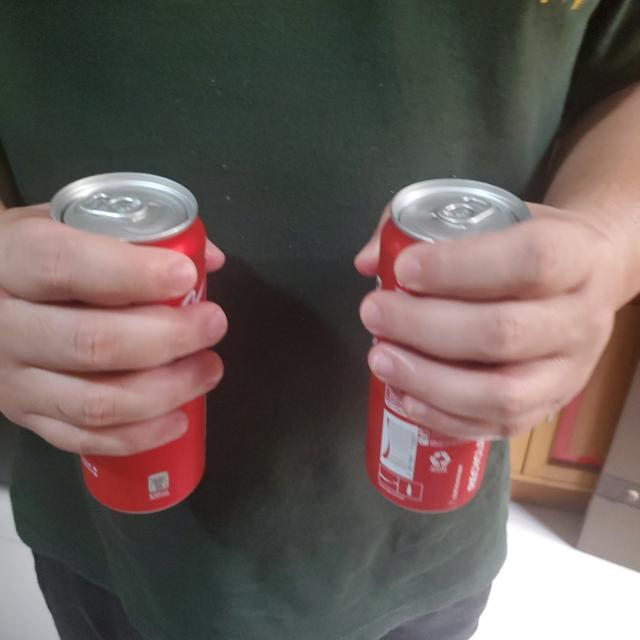coke: (370, 176, 538, 512), (51, 172, 210, 519)
